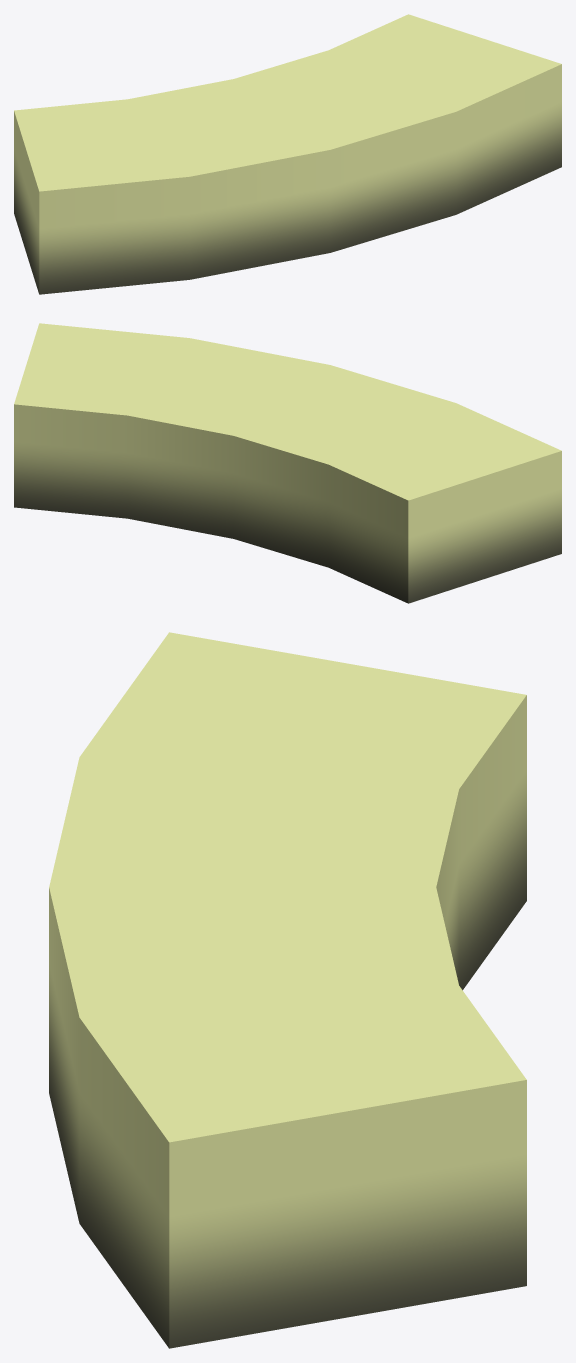
The picture shows the model from 3 angles, top to bottom: view 1: azimuth 30°, elevation 25°; view 2: azimuth 150°, elevation 25°; view 3: azimuth 270°, elevation 25°; orthographic projection. The views are drawn at different scales.
Visible parts, largest first — view 1: Base02.001; view 2: Base02.001; view 3: Base02.001.
Part boxes in pixels (x1,y1,x2,y2): Base02.001: (14,14,561,294); Base02.001: (14,323,561,603); Base02.001: (49,632,526,1348).
Size of what is drawn, in the model's own units: 27.19 by 5.13 by 10.76.
1 material, 1 textured.
